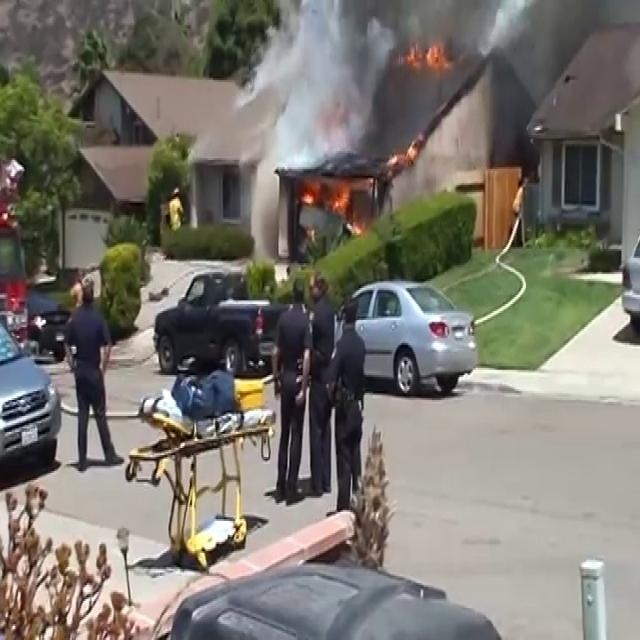Smoke: (242, 0, 638, 153)
